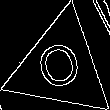O_S: (33, 35, 88, 98)
